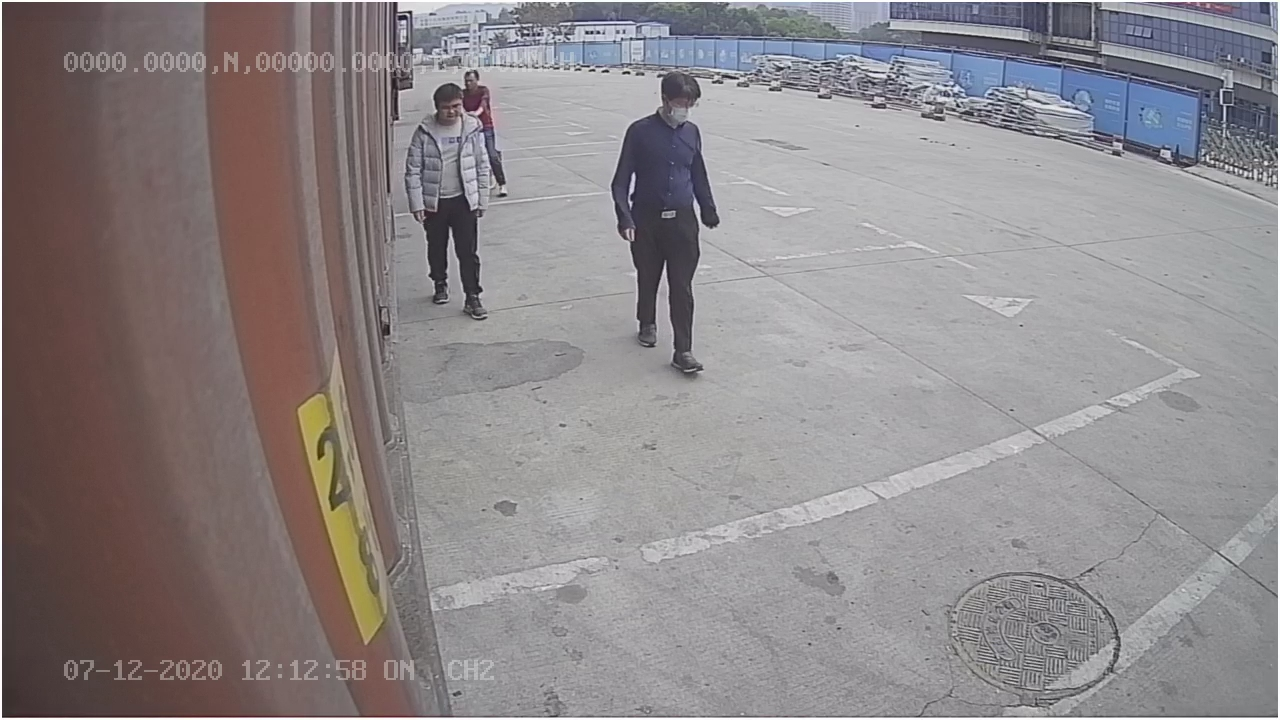person: (609, 67, 720, 373)
